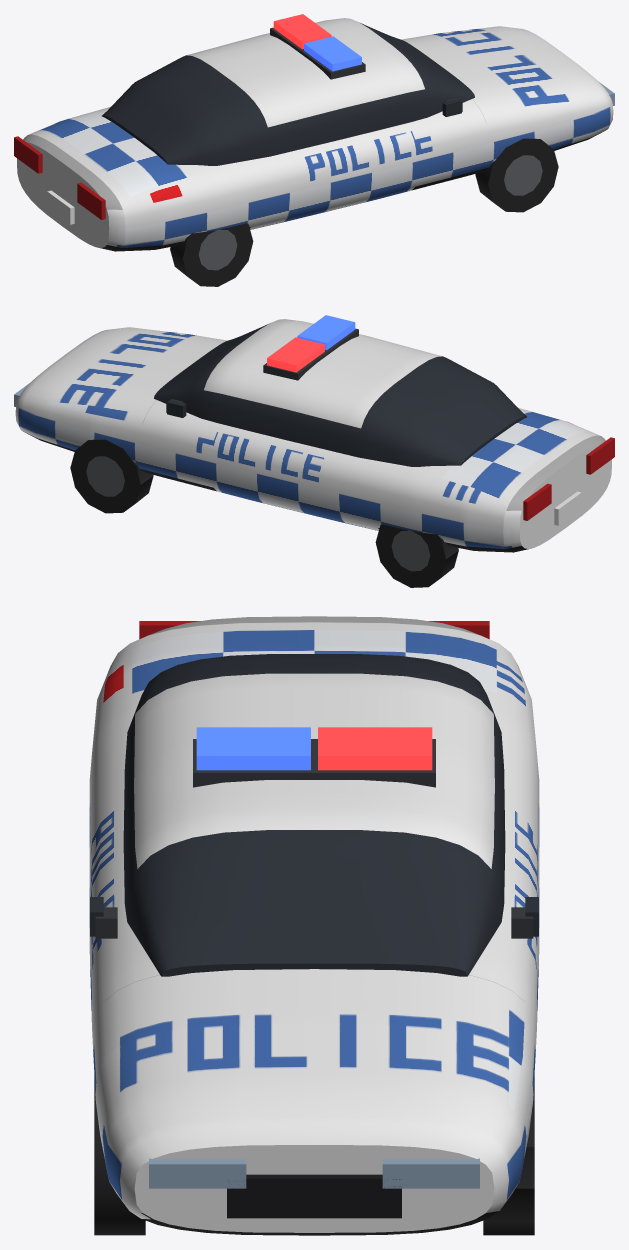
Rendered from nsw_police.glb.
3 renders of one model, top to bottom at view 1: azimuth 30°, elevation 25°; view 2: azimuth 150°, elevation 25°; view 3: azimuth 270°, elevation 25°, orthographic. The views are drawn at different scales.
Parts seen in each view (by area): view 1: nsw_police; view 2: nsw_police; view 3: nsw_police.
Part boxes in pixels (x1,y1,x2,y2): nsw_police: (14,14,614,286); nsw_police: (14,315,614,587); nsw_police: (89,616,539,1235).
Bounding box in the file's own units: 4.9 × 1.54 × 1.85.
Materials: 3 (3 with a texture image).
